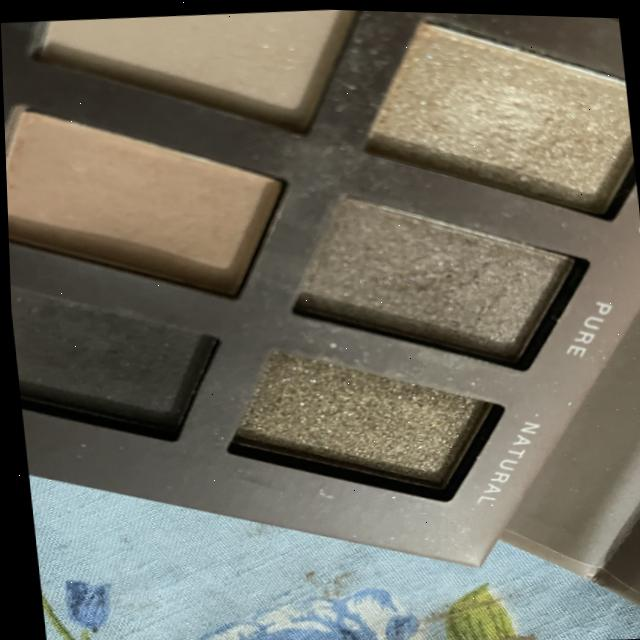eye shade: (322, 7, 638, 234), (2, 84, 300, 322), (259, 177, 601, 375), (204, 325, 527, 527), (27, 1, 385, 165), (7, 253, 245, 479)
